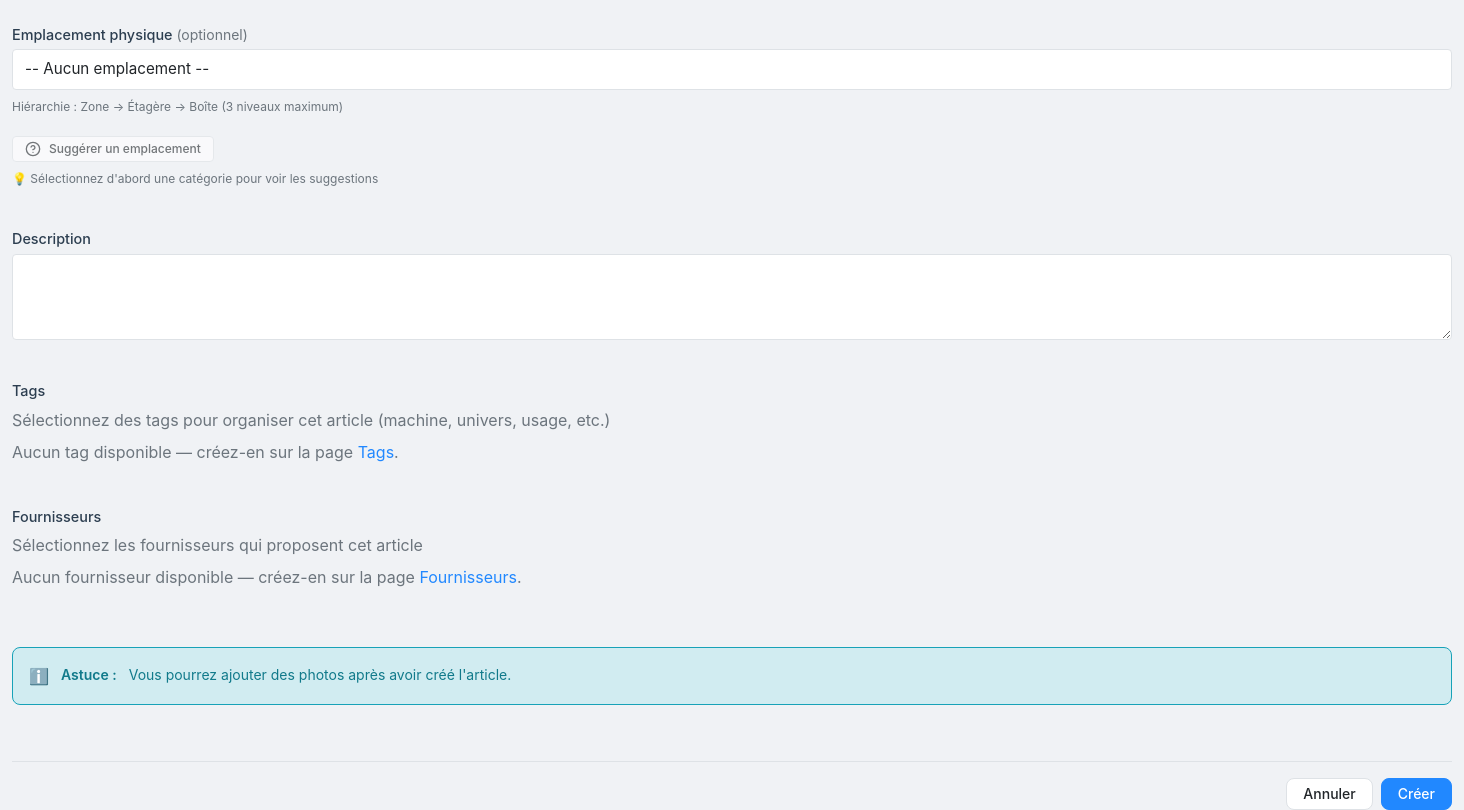
Test: ArticleForm › affiche une erreur si le nom est vide
(page scrolled)
What coordinates should you click on to do the following:
click the button "Créer"
I would click on:
 (1416, 794)
Its box is [1381,778,1452,809].
(page scrolled)
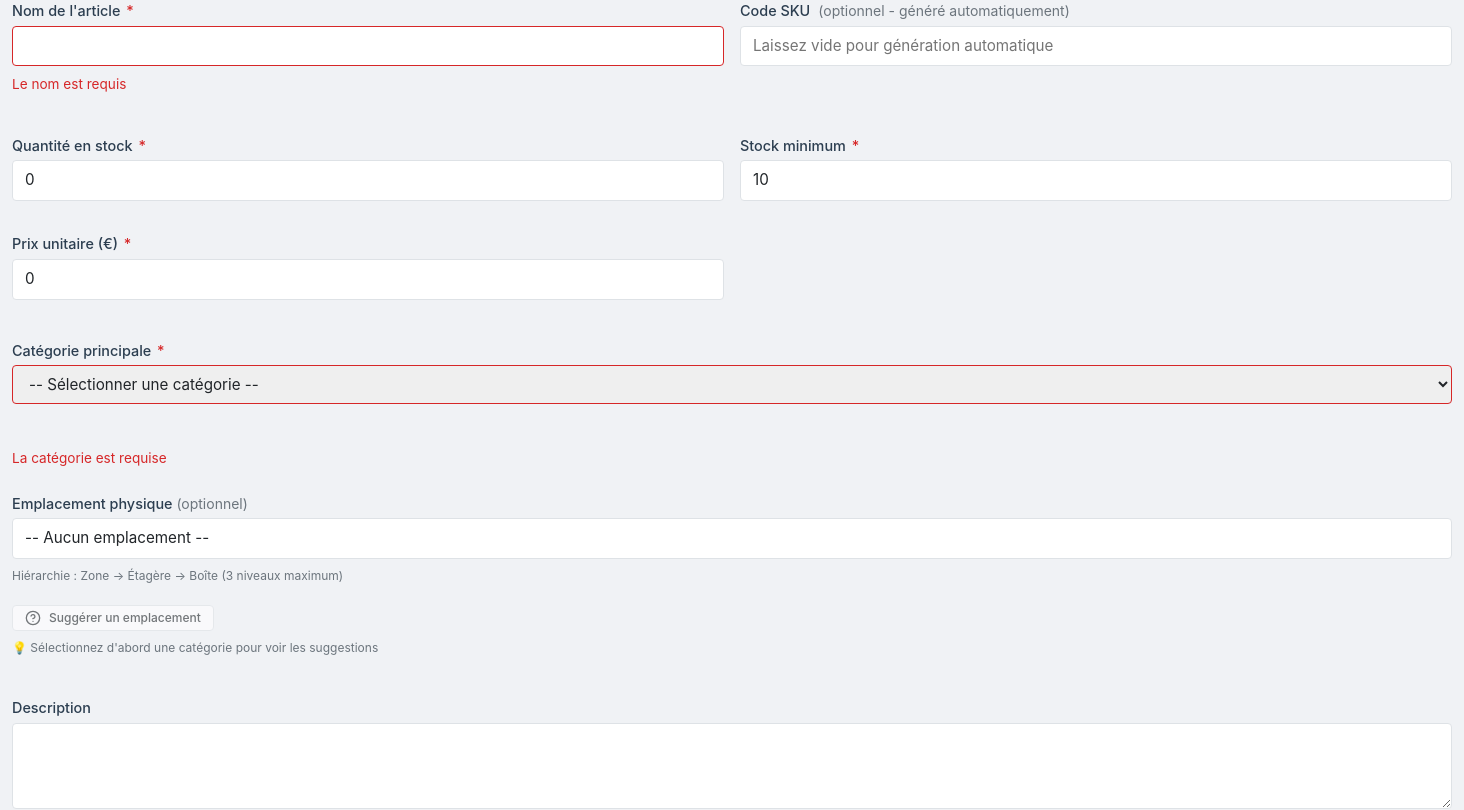
Check: the text "Le nom est requis" is shown, box [12,76,126,92]
